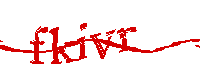f: (29, 26, 46, 64)
i: (75, 23, 89, 61)
k: (48, 28, 73, 65)
r: (117, 26, 136, 55)
v: (90, 29, 116, 60)
